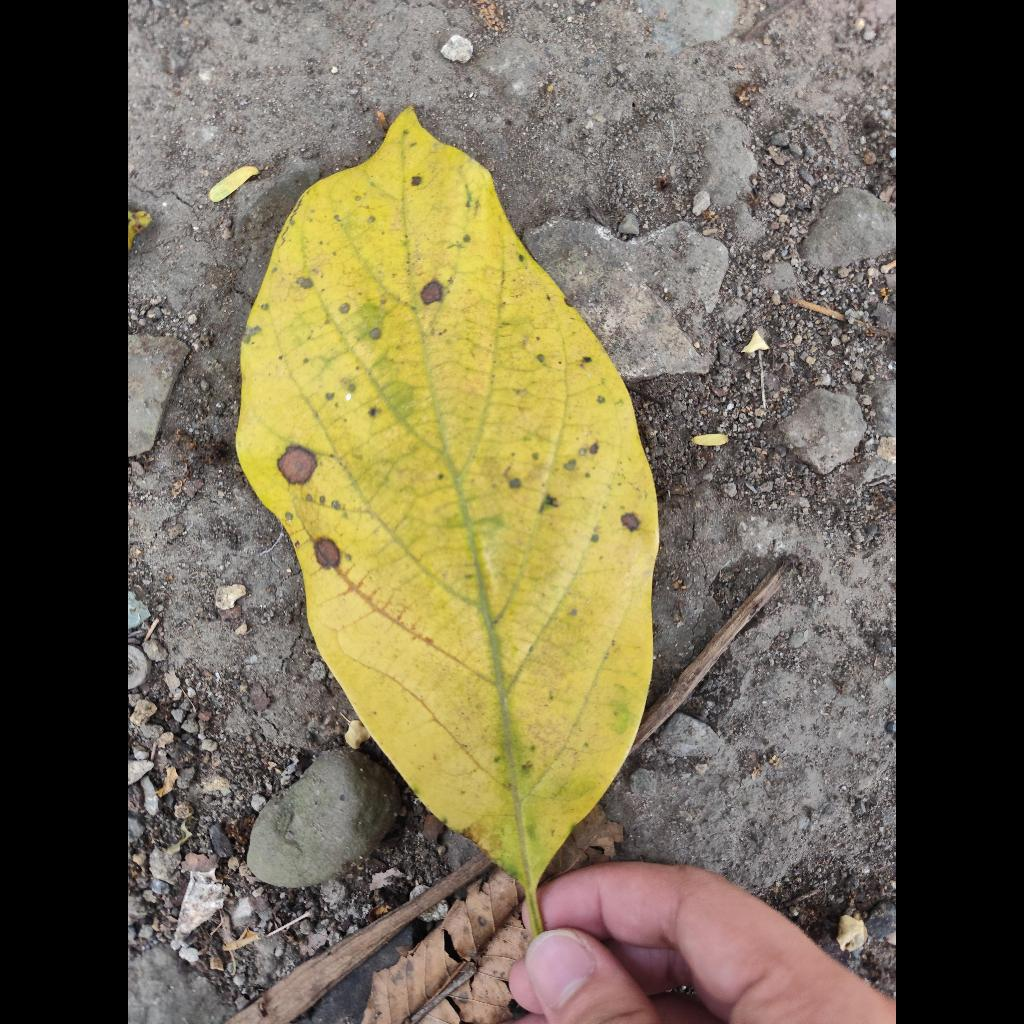nutrient_deficiency: (237, 108, 657, 890)
